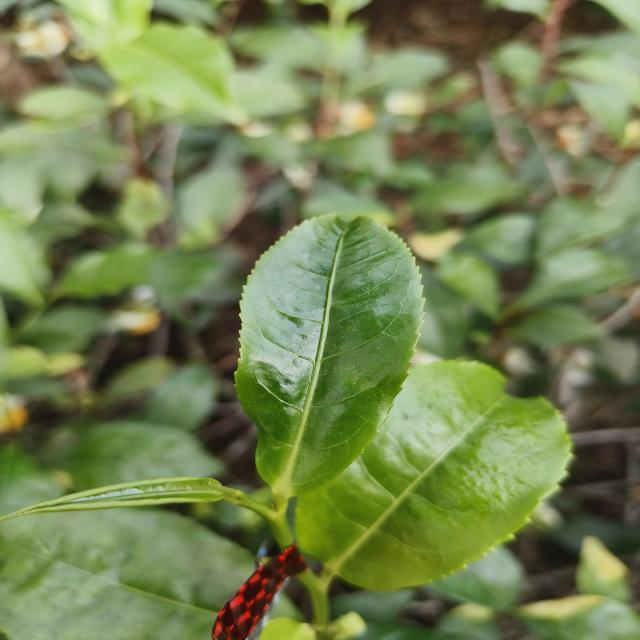Leaf: (296, 361, 570, 590), (235, 215, 423, 499), (0, 508, 253, 640), (101, 22, 246, 124), (50, 421, 225, 491), (0, 477, 272, 522), (514, 249, 630, 308), (179, 163, 246, 248), (149, 249, 237, 313), (57, 243, 158, 298), (517, 595, 640, 640), (142, 363, 218, 431), (0, 121, 123, 161), (536, 198, 618, 258), (0, 444, 65, 516), (0, 209, 47, 305), (436, 252, 499, 318), (510, 305, 602, 348), (231, 67, 304, 118), (466, 213, 535, 266), (576, 536, 630, 602), (570, 81, 630, 139)
